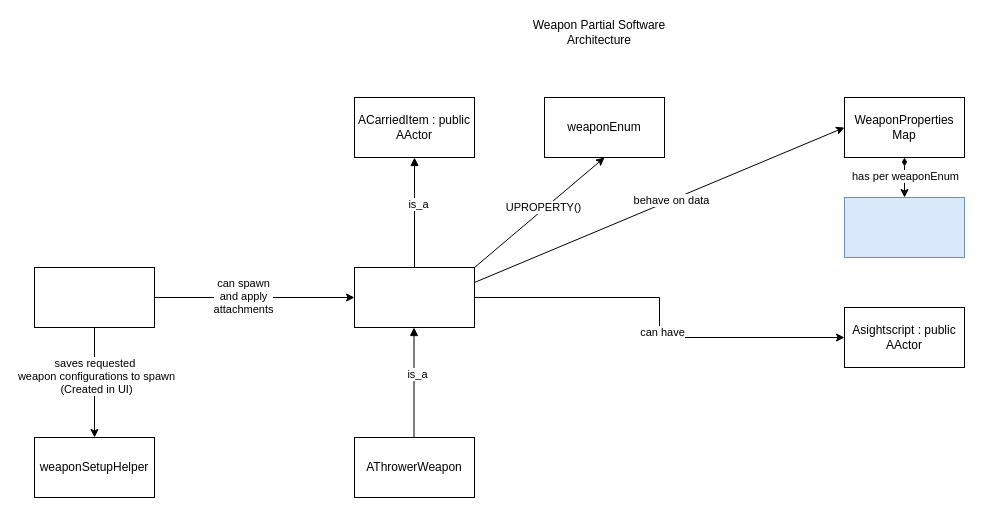
The diagram is 982 pixels wide and 515 high, and some of its shapes have lost their labels. Here are the shapes that lost their labels. From the top down, the centre of each, then its label:
the point at 904,227: WeaponProperties
the point at 94,297: LoadoutHelper
the point at 414,297: AWeapon
